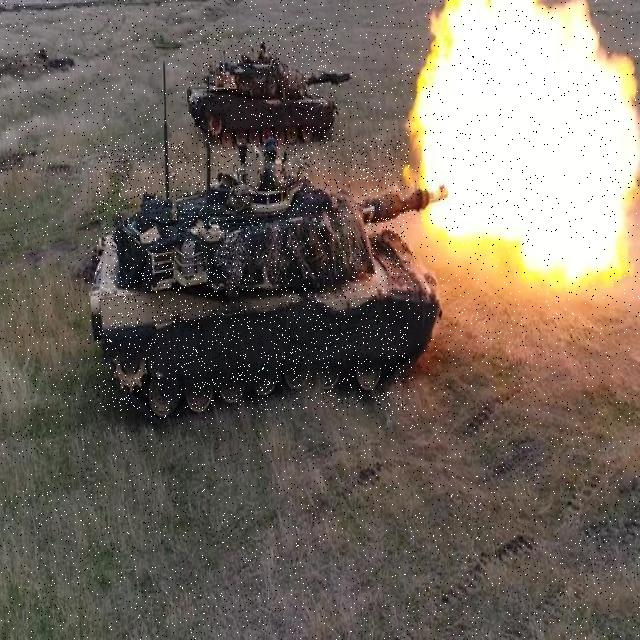MIL_MBT: (96, 141, 410, 411), (188, 26, 336, 148)
